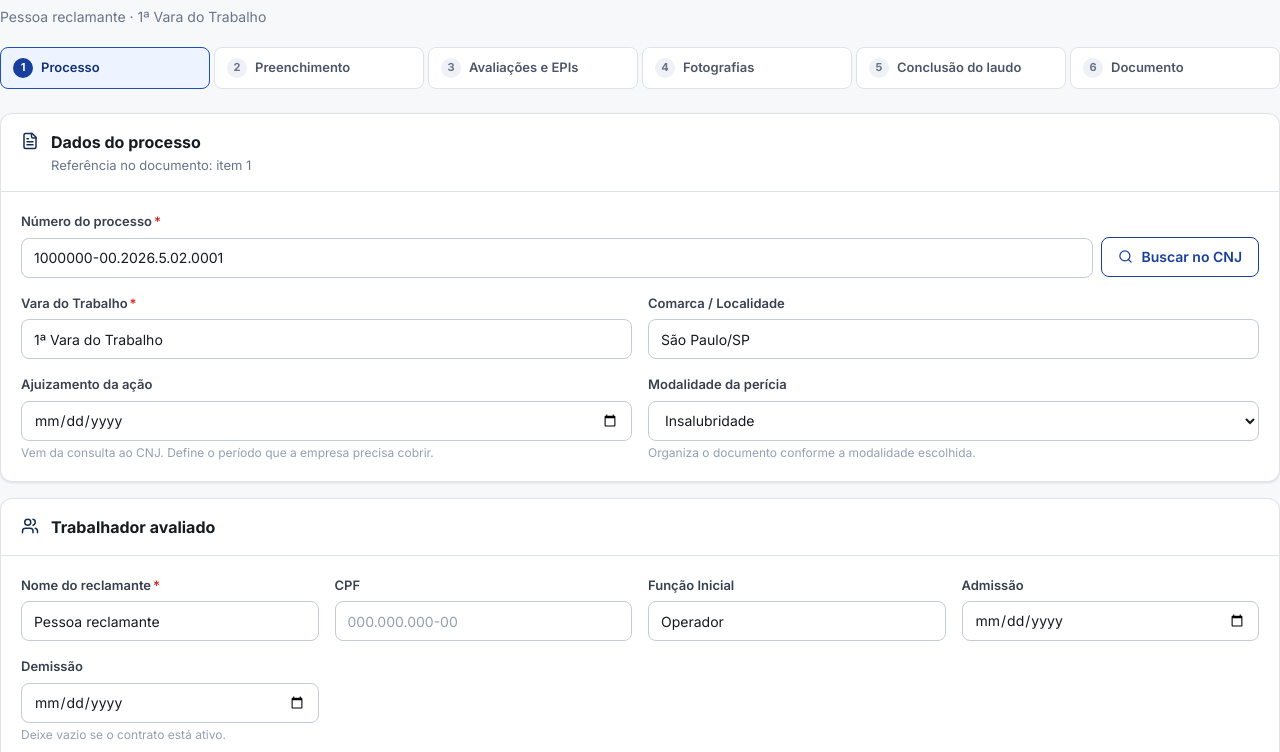
Test: PericiaEditor — inserir no laudo recolhe a avaliação › fecha o cartão no clique e passa a avisar que ele ficou pendente
Click the button "3 Avaliações e EPIs": (533, 68) [428,46,638,88]
(page scrolled)
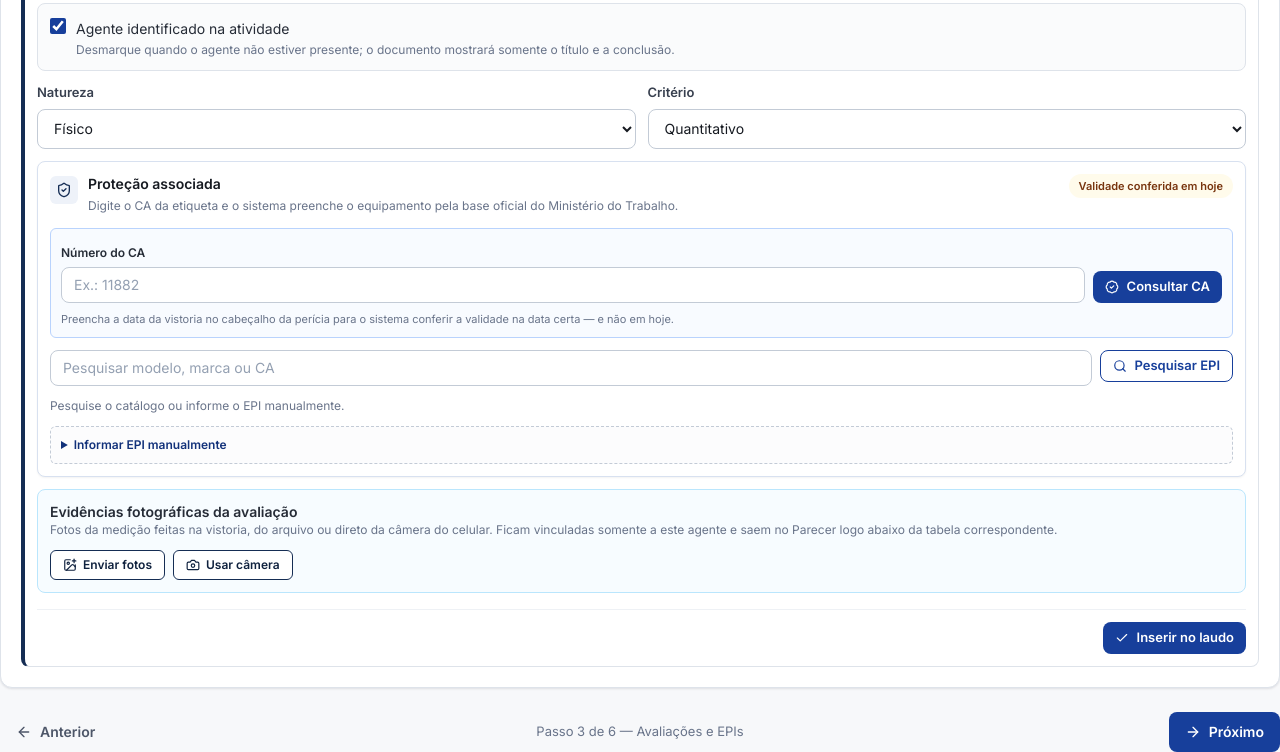
Check: the text "pendente" is not shown
Click the button "Inserir no laudo": (1174, 638) [1102,622,1246,654]
(page scrolled)
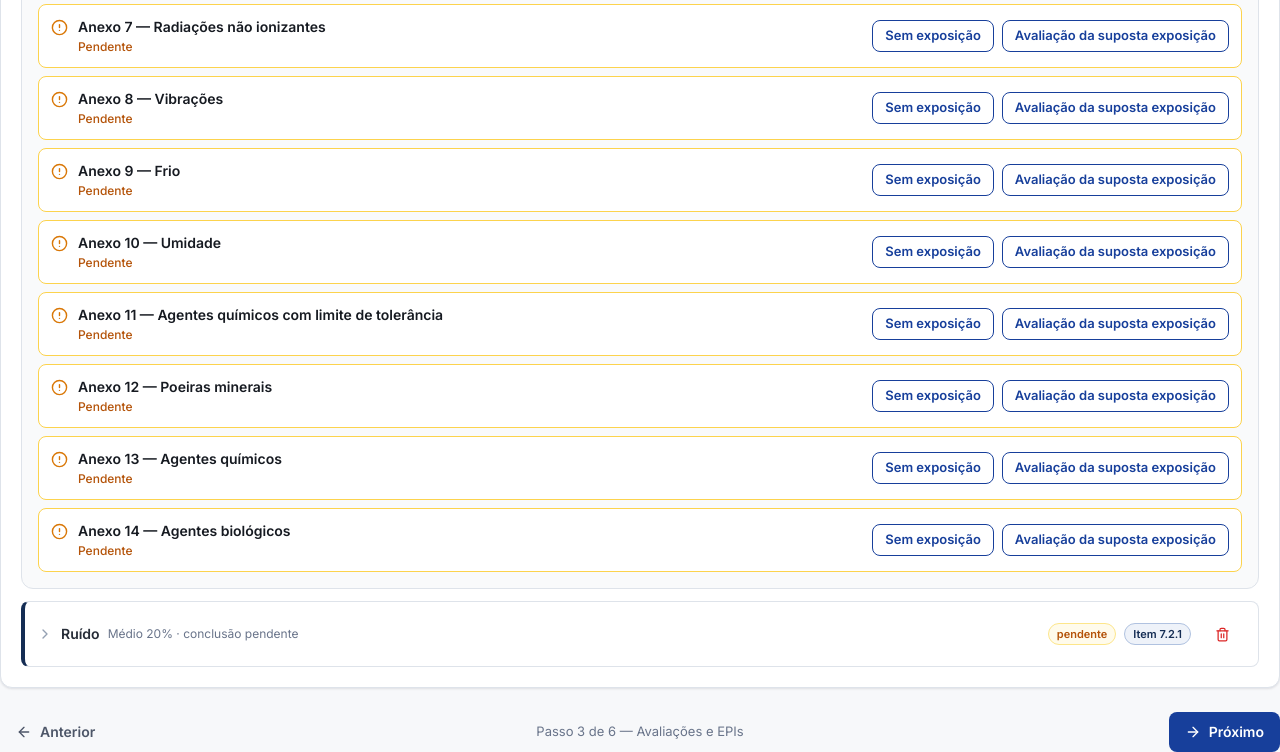
Check: the text "pendente" is shown, box [1048,623,1116,645]
Check: the button "Inserir no laudo" is gone
